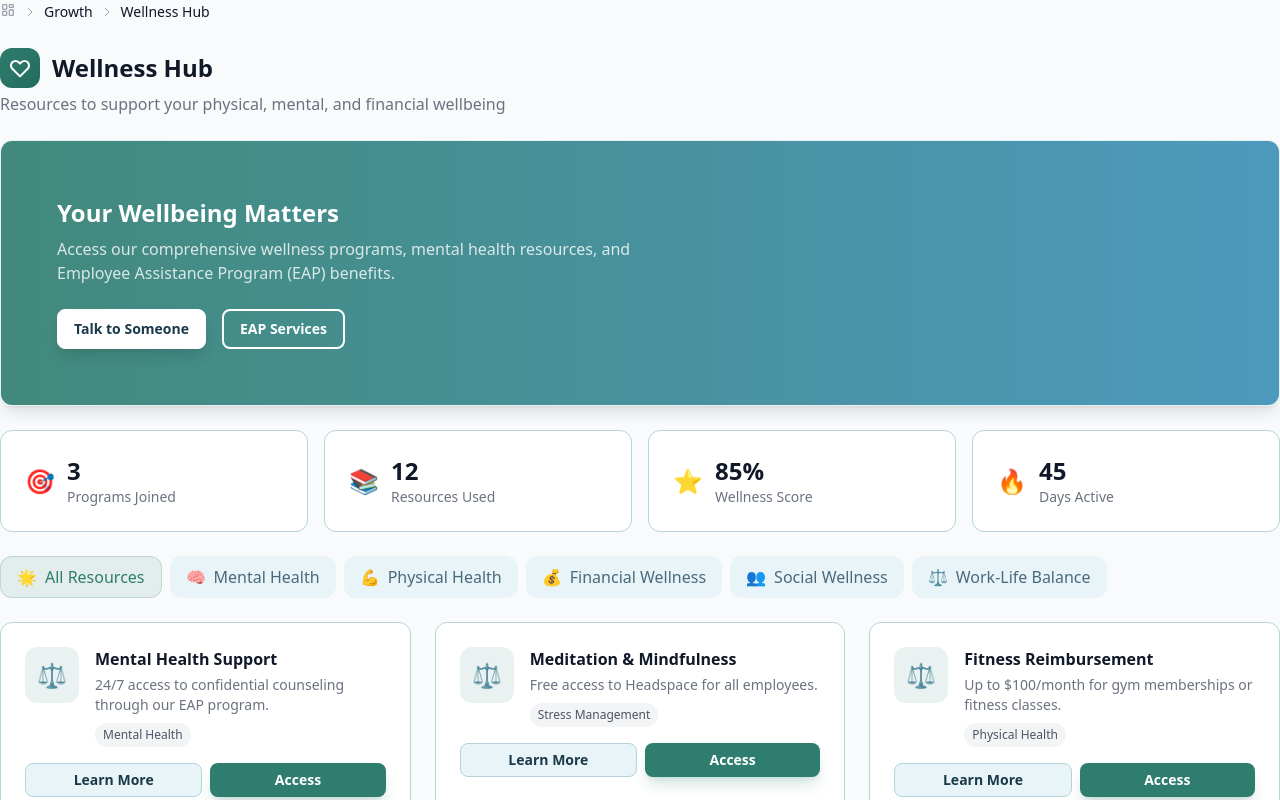
Test: Wellness Component › opens chat modal when Talk to Someone is clicked
Click the button with test id "talk-to-someone-button".
click(132, 329)  # box [57,309,206,349]
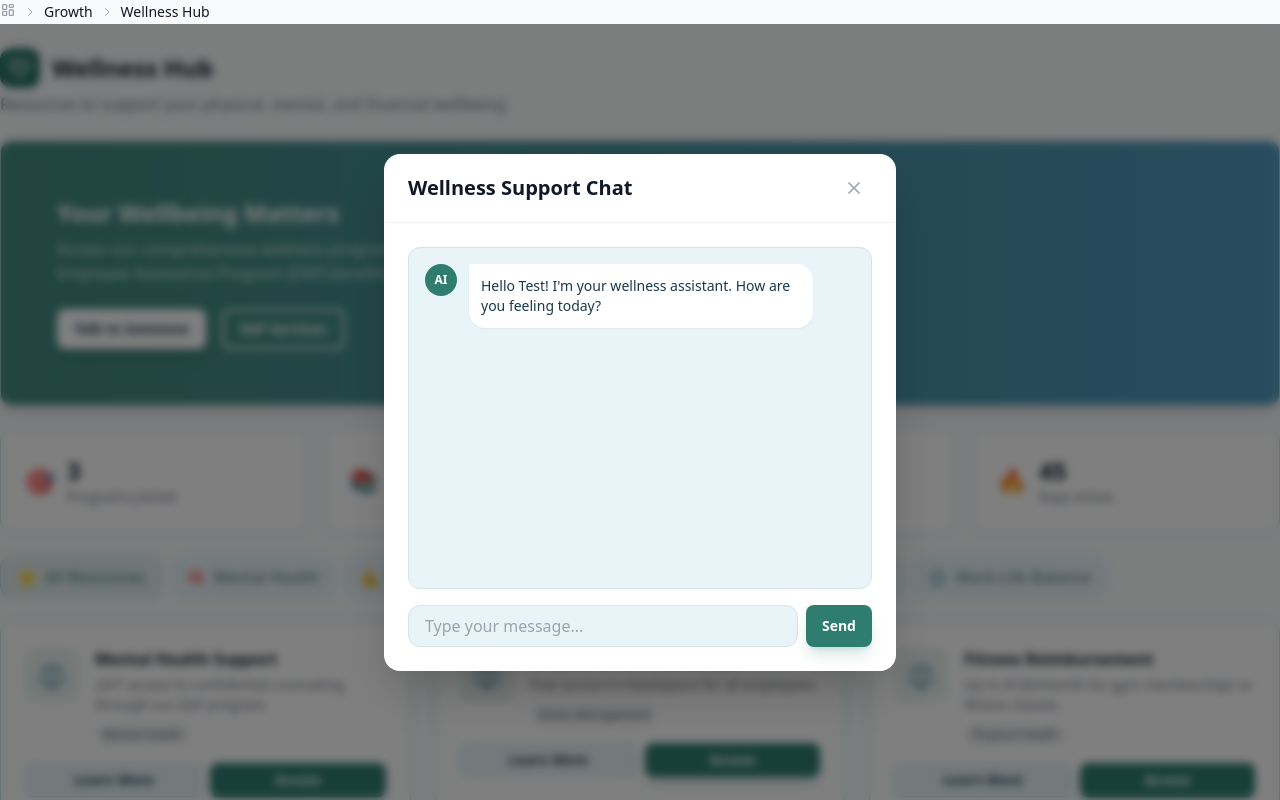
Now the text "I'm your wellness assistant" is shown, box [481,276,790,314]
